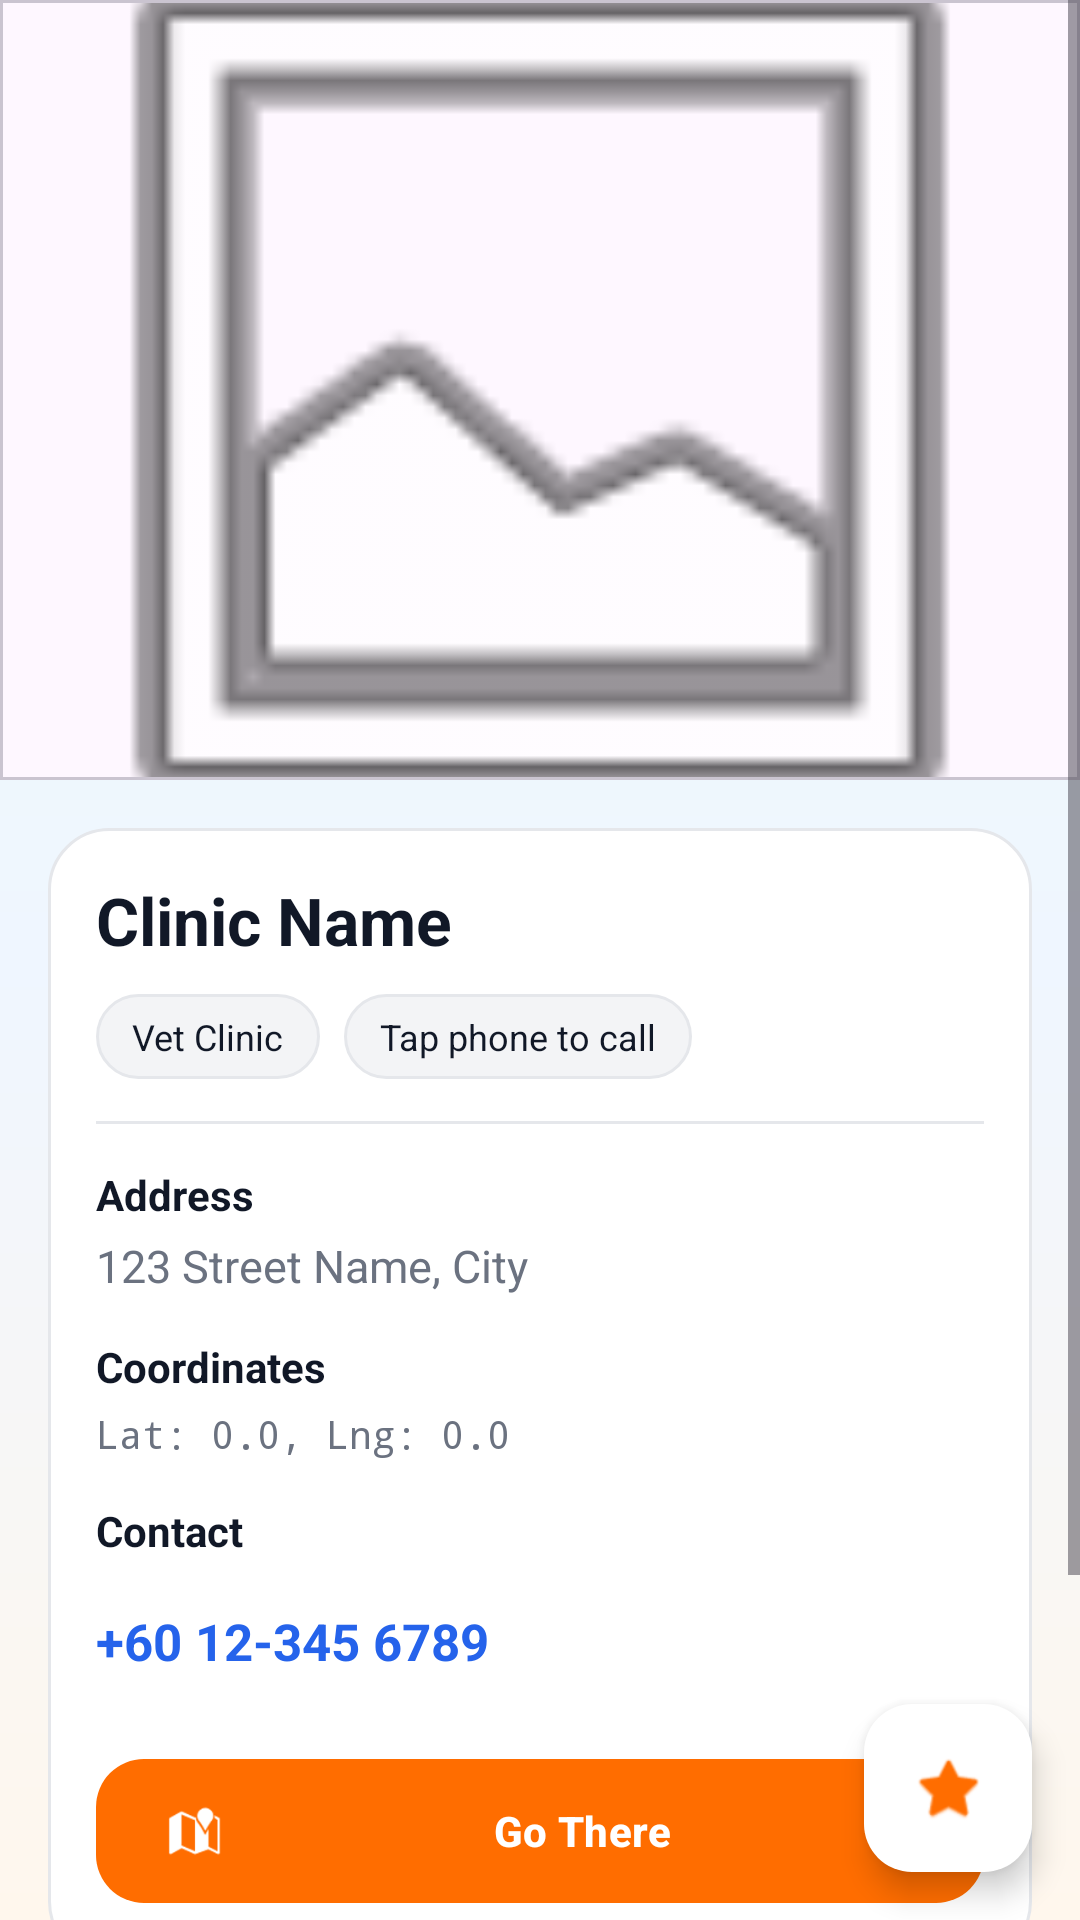

Named icons in this screenshot (1080*1920) and their centers, (x=x, y=y):
Add to Favorites: (x=948, y=1788)
